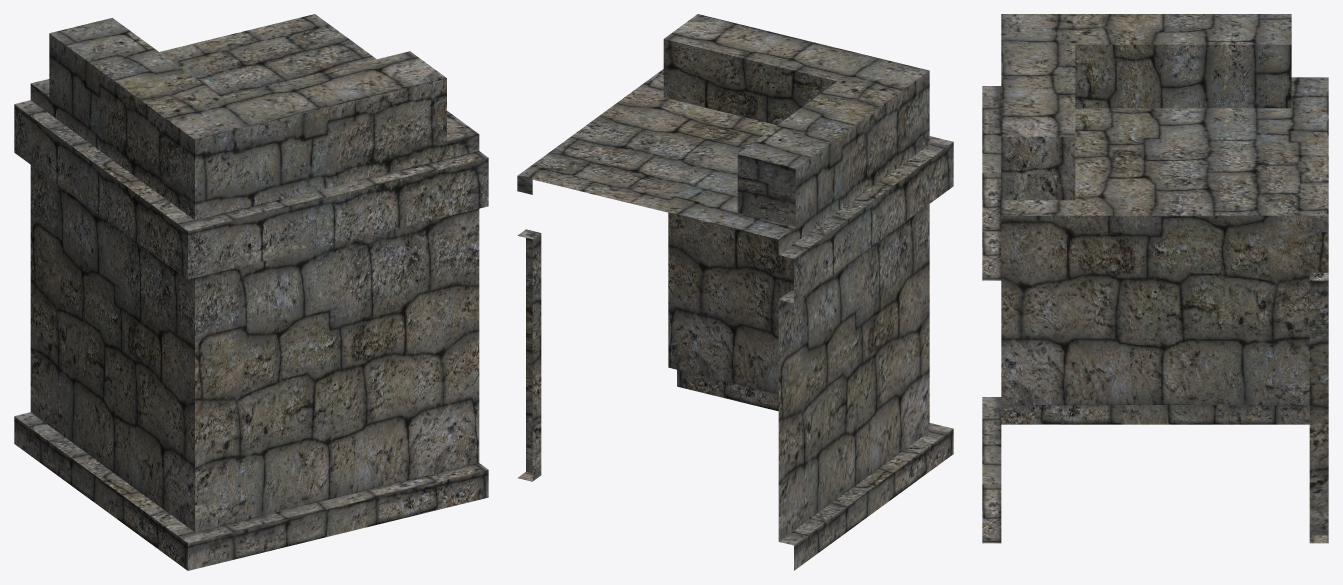
The model's file is Fort_00001010.gltf.
3 renders of one model, left to right at view 1: azimuth 30°, elevation 25°; view 2: azimuth 150°, elevation 25°; view 3: azimuth 270°, elevation 25°, orthographic. The views are drawn at different scales.
Visible parts, largest first — view 1: Claimed_00001010; view 2: Claimed_00001010; view 3: Claimed_00001010.
Part boxes in pixels (x1=…): Claimed_00001010: x1=14, y1=14, x2=488, y2=570; Claimed_00001010: x1=517, y1=14, x2=953, y2=570; Claimed_00001010: x1=982, y1=14, x2=1328, y2=543.
Bounding box in the file's own units: 2.5 × 3.34 × 2.5.
1 material, 1 textured.
